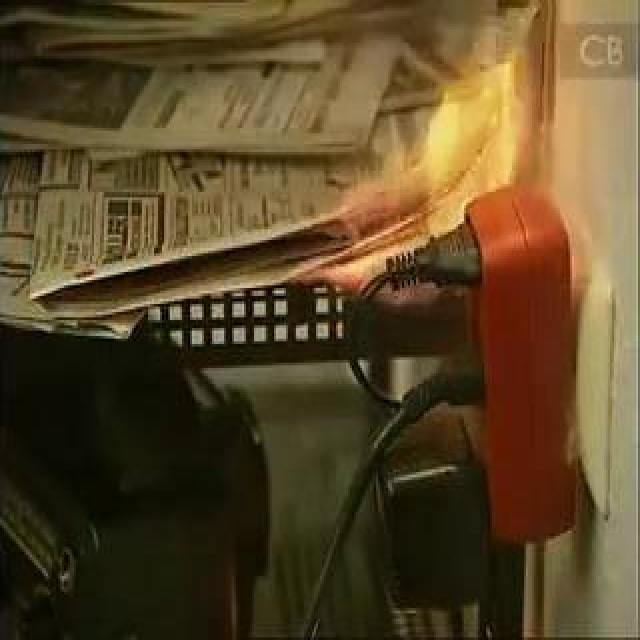Fire: (265, 25, 555, 316)
